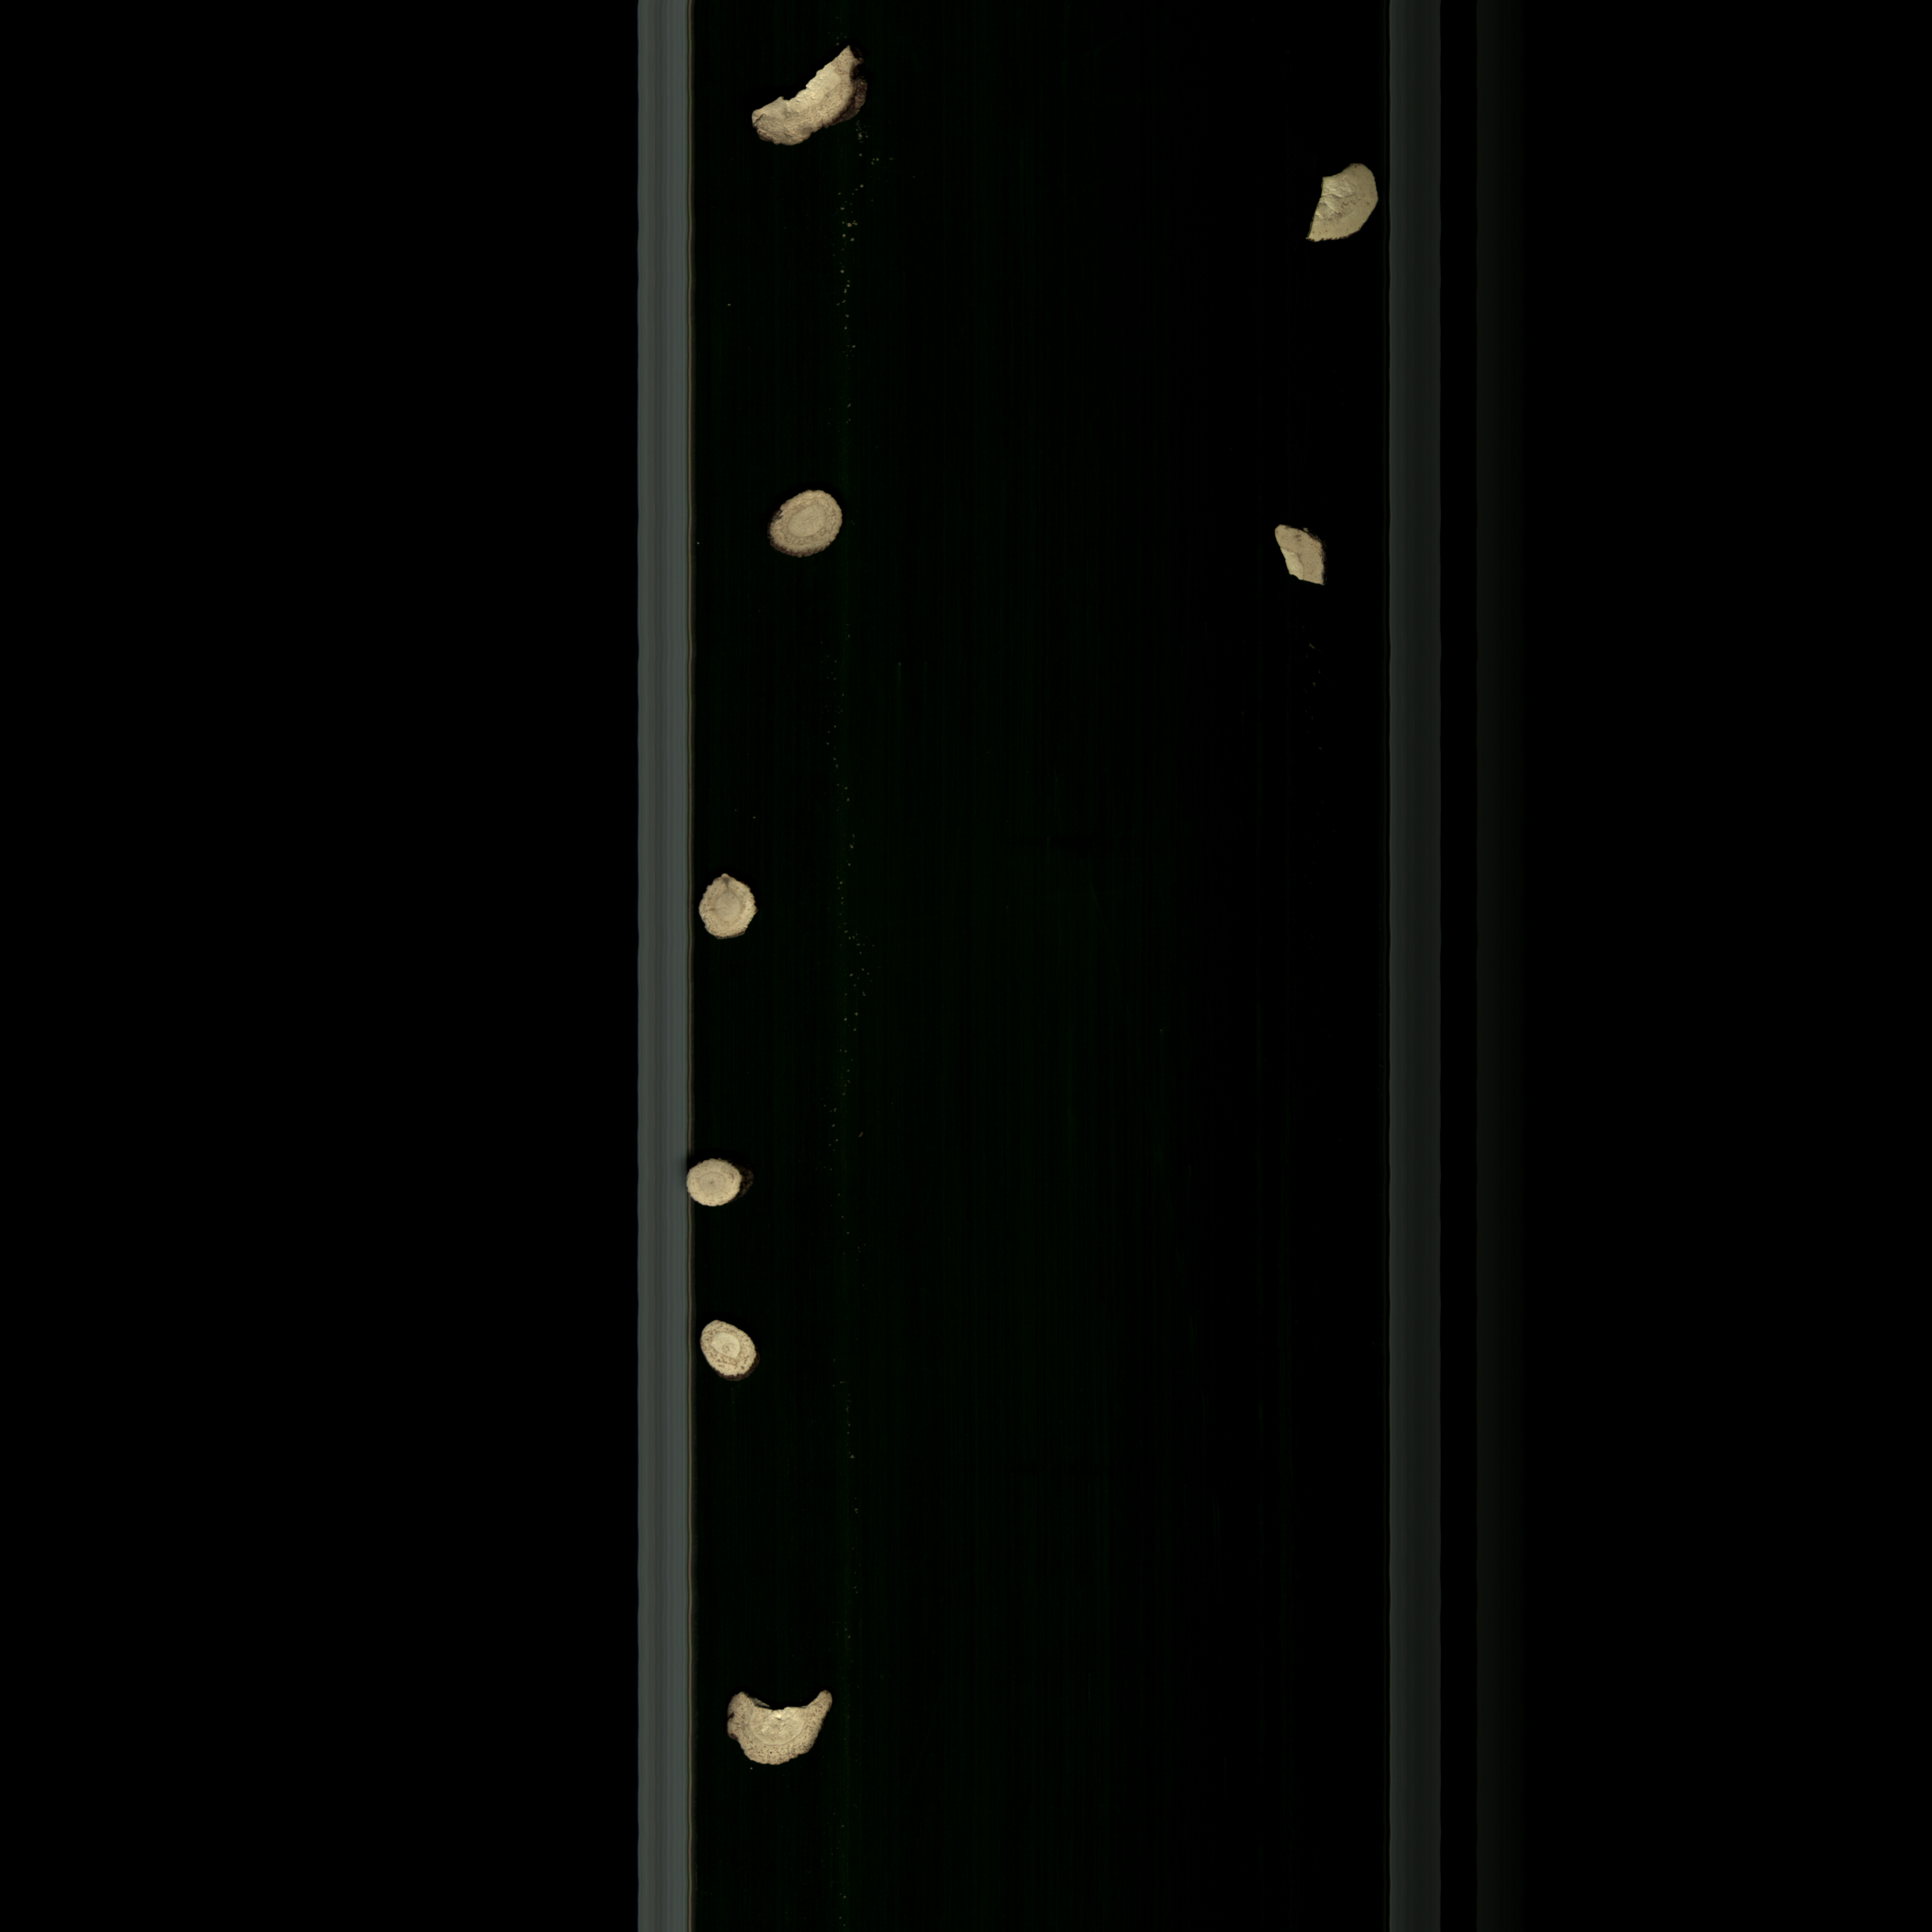debris: (743, 42, 867, 159), (718, 1677, 844, 1787), (1283, 157, 1384, 251), (1269, 513, 1334, 605)
